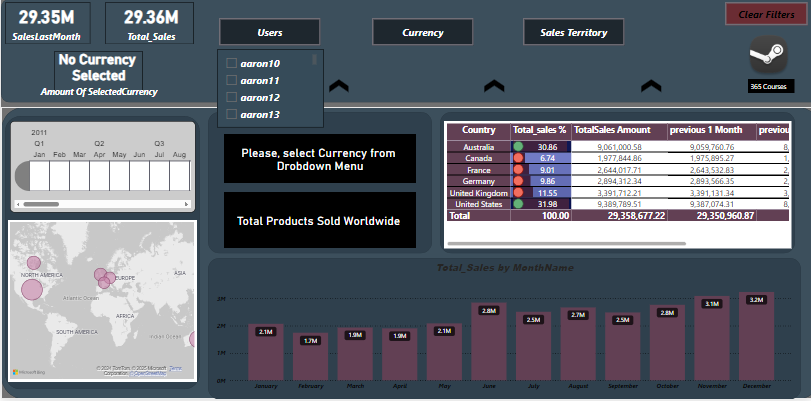

This screenshot's page, from the dashboard's own definition file:
{"tool":"powerbi","page":{"name":"Overview","canvas":[1620,800],"ordinal":0},"visuals":[{"type":"shape","box":[0,0,1636.2,206.9],"z":3000},{"type":"actionButton","title":"Clear filters","box":[1448.3,5.2,165.5,46.6],"z":4000},{"type":"actionButton","title":"Clear filters","box":[436.2,37.9,203.4,55.2],"z":5000},{"type":"actionButton","title":"Clear filters","box":[741.4,37.9,203.4,55.2],"z":6000},{"type":"actionButton","title":"Clear filters","box":[1043.1,37.9,203.4,55.2],"z":7000},{"type":"shape","box":[8.6,6.9,170.7,84.5],"z":8000},{"type":"card","fields":{"Values":["#Measures.SalesLastMonth"]},"box":[1.7,0,177.6,91.4],"z":9000},{"type":"shape","box":[208.6,6.9,177.6,84.5],"z":10000},{"type":"card","fields":{"Values":["#Measures.Total_Sales"]},"box":[215.5,0,169,91.4],"z":11000},{"type":"shape","box":[106.9,103.4,177.6,84.5],"z":18000},{"type":"card","fields":{"Values":["#Measures.SalesAmountSelectedCurrency"]},"box":[58.6,86.2,275.9,120.7],"z":19000},{"type":"shape","box":[0,215.5,1639.7,584.5],"z":20000},{"type":"shape","box":[413.8,225.9,448.3,282.8],"z":27000},{"type":"card","fields":{"Values":["#Measures.TitleBar"]},"box":[446.6,270.7,384.5,98.3],"z":27500},{"type":"card","fields":{"Values":["#Measures.MapTitle"]},"box":[446.6,386.2,384.5,112.1],"z":28000},{"type":"shape","box":[413.8,517.2,1186.2,282.8],"z":28501},{"type":"lineStackedColumnComboChart","fields":{"Category":["dim_date.MonthName"],"Y":["#Measures.Total_Sales"]},"box":[425.9,522.4,1162.1,270.7],"z":29001},{"type":"shape","box":[877.6,225.9,710.3,282.8],"z":29502},{"type":"shape","box":[8.6,234.5,389.7,546.6],"z":30503},{"type":"map","fields":{"Category":["dim_SalesTeritory.SalesTerritoryCountry"],"Size":["#Measures.Productssold"]},"box":[13.8,441.4,377.6,324.1],"z":31003},{"type":"Timeline1447991079100","fields":{"Time":["dim_date.Date"]},"box":[17.2,244.8,370.7,182.8],"z":31503},{"type":"tableEx","fields":{"Values":["dim_SalesTeritory.SalesTerritoryCountry","#Measures.%sales","#Measures.Total_Sales","#Measures.SalesLastMonth","#Measures.previous 3 months","#Measures.previous 6 months"]},"box":[886.2,243.1,694.8,255.2],"z":36503},{"type":"image","box":[1487.9,65.5,94.8,94.8],"z":37004},{"type":"textbox","box":[1494.8,160.3,93.1,27.6],"z":37005},{"type":"shape","box":[656.9,160.3,39.7,27.6],"z":37006},{"type":"shape","box":[965.5,160.3,41.4,27.6],"z":37007},{"type":"shape","box":[1279.3,160.3,41.4,27.6],"z":37008}]}

Visuals, with their boxes in screenshot pixels (x1, y1, x2, y2), scaled from the page's 1620x800 canvas onto the 811x401 screenshot:
shape: 0/0/810/104
"Clear filters" actionButton: 725/3/808/26
"Clear filters" actionButton: 218/19/320/47
"Clear filters" actionButton: 371/19/473/47
"Clear filters" actionButton: 522/19/624/47
shape: 4/3/90/46
card - #Measures.SalesLastMonth: 1/0/90/46
shape: 104/3/193/46
card - #Measures.Total_Sales: 108/0/192/46
shape: 54/52/142/94
card - #Measures.SalesAmountSelectedCurrency: 29/43/167/104
shape: 0/108/810/400
shape: 207/113/432/255
card - #Measures.TitleBar: 224/136/416/185
card - #Measures.MapTitle: 224/194/416/250
shape: 207/259/801/400
lineStackedColumnComboChart - dim_date.MonthName x #Measures.Total_Sales: 213/262/795/398
shape: 439/113/795/255
shape: 4/118/199/392
map - dim_SalesTeritory.SalesTerritoryCountry x #Measures.Productssold: 7/221/196/384
Timeline1447991079100 - dim_date.Date: 9/123/194/214
tableEx - dim_SalesTeritory.SalesTerritoryCountry x #Measures.%sales: 444/122/791/250
image: 745/33/792/80
textbox: 748/80/795/94
shape: 329/80/349/94
shape: 483/80/504/94
shape: 640/80/661/94
